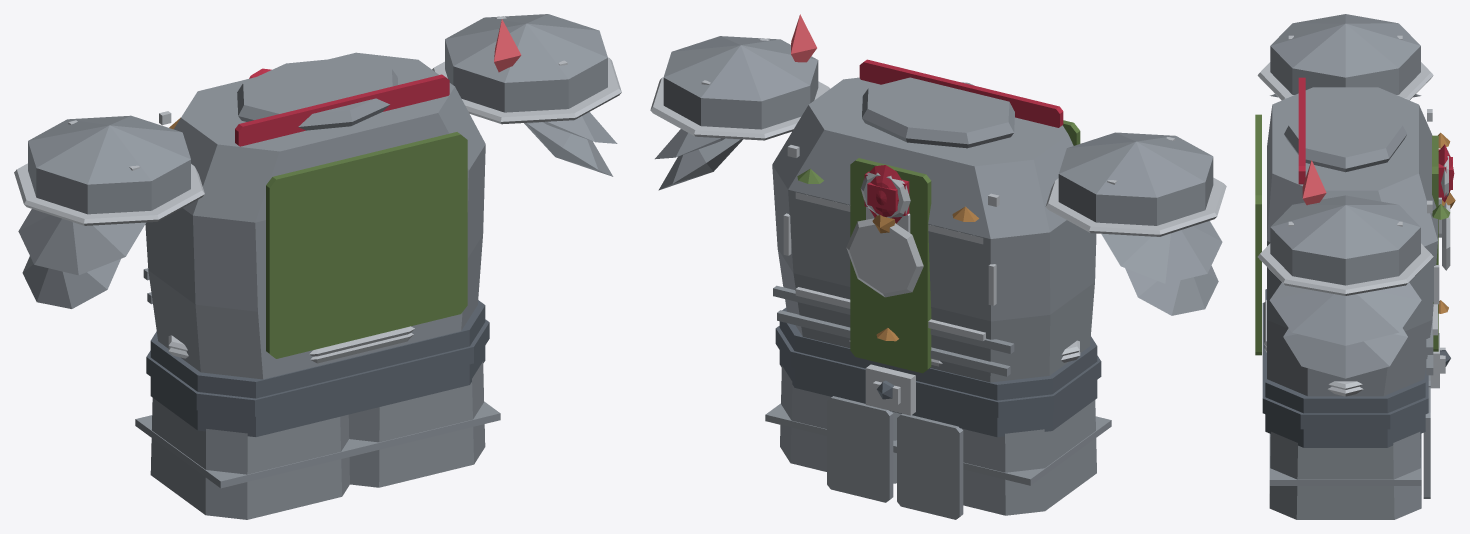
File: armor_greatsword_s4.fbx
3 renders of one model, left to right at view 1: azimuth 30°, elevation 25°; view 2: azimuth 150°, elevation 25°; view 3: azimuth 270°, elevation 25°, orthographic. The views are drawn at different scales.
Visible parts, largest first — view 1: Chest_Body, Chest_Attach, Shoulder_L_Body, Chest_Inner, Tasset_L_Body, Shoulder_R_Body, Tasset_R_Body, Chest_CoreGem_An, Shoulder_L_Trim, Shoulder_R_Trim, Chest_Trim, Chest_Trim_Ep (+1 smaller); view 2: Chest_Body, Shoulder_L_Body, Tasset_L_Body, Chest_Inner, Shoulder_R_Body, Tasset_R_Body, Chest_Trim, Chest_Attach, Chest_CoreGem_An, Shoulder_L_Trim, Shoulder_R_Trim, Chest_CoreGem_Re (+1 smaller); view 3: Chest_Body, Shoulder_R_Body, Tasset_R_Body, Shoulder_L_Body, Chest_Inner, Chest_Attach, Shoulder_R_Trim, Chest_Trim, Chest_CoreGem_An, Shoulder_L_Trim, Float_Float, Chest_Trim_Ep (+2 smaller).
Part boxes in pixels (bbox=[...]): Chest_Body: bbox=[143, 52, 485, 379]; Chest_Attach: bbox=[266, 132, 467, 358]; Shoulder_L_Body: bbox=[18, 115, 190, 308]; Chest_Inner: bbox=[146, 300, 489, 436]; Tasset_L_Body: bbox=[135, 398, 368, 519]; Shoulder_R_Body: bbox=[445, 14, 617, 176]; Tasset_R_Body: bbox=[346, 361, 500, 487]; Chest_CoreGem_An: bbox=[235, 74, 449, 146]; Shoulder_L_Trim: bbox=[14, 120, 204, 225]; Shoulder_R_Trim: bbox=[432, 16, 621, 124]; Chest_Trim: bbox=[159, 111, 413, 363]; Chest_Trim_Ep: bbox=[168, 326, 414, 356]; Chest_Body: bbox=[772, 77, 1096, 382]; Shoulder_L_Body: bbox=[1058, 132, 1222, 315]; Tasset_L_Body: bbox=[893, 400, 1111, 519]; Chest_Inner: bbox=[775, 307, 1101, 437]; Shoulder_R_Body: bbox=[655, 36, 818, 190]; Tasset_R_Body: bbox=[765, 366, 901, 502]; Chest_Trim: bbox=[783, 145, 1080, 415]; Chest_Attach: bbox=[797, 120, 1080, 373]; Chest_CoreGem_An: bbox=[859, 59, 1063, 215]; Shoulder_L_Trim: bbox=[1045, 137, 1226, 236]; Shoulder_R_Trim: bbox=[650, 38, 829, 140]; Chest_CoreGem_Re: bbox=[869, 165, 901, 223]; Chest_Body: bbox=[1267, 87, 1437, 396]; Shoulder_R_Body: bbox=[1269, 195, 1421, 378]; Tasset_R_Body: bbox=[1269, 387, 1430, 519]; Shoulder_L_Body: bbox=[1270, 14, 1421, 97]; Chest_Inner: bbox=[1262, 289, 1450, 447]; Chest_Attach: bbox=[1255, 114, 1450, 355]; Shoulder_R_Trim: bbox=[1257, 221, 1433, 295]; Chest_Trim: bbox=[1264, 109, 1450, 396]; Chest_CoreGem_An: bbox=[1298, 77, 1452, 197]; Shoulder_L_Trim: bbox=[1257, 35, 1433, 100]; Float_Float: bbox=[1302, 160, 1326, 205]; Chest_Trim_Ep: bbox=[1264, 300, 1362, 389].
Size of the model in its own units: 446 by 310 by 148.
